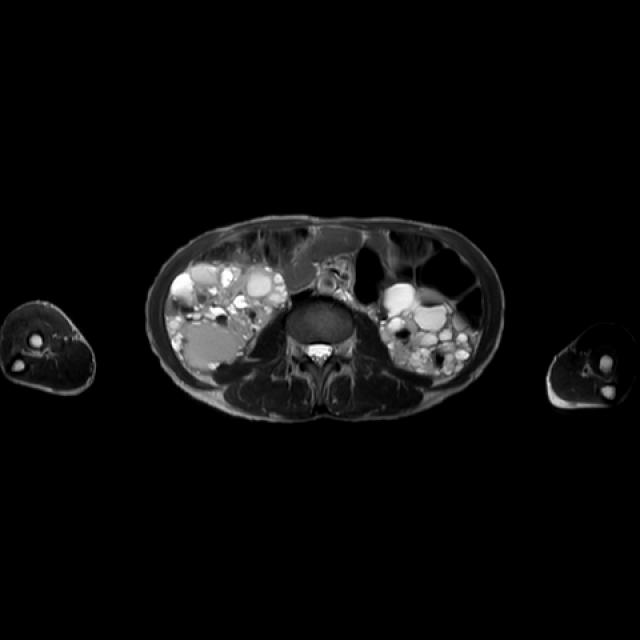sag: (167, 262, 286, 367)
sol: (380, 284, 471, 371)
